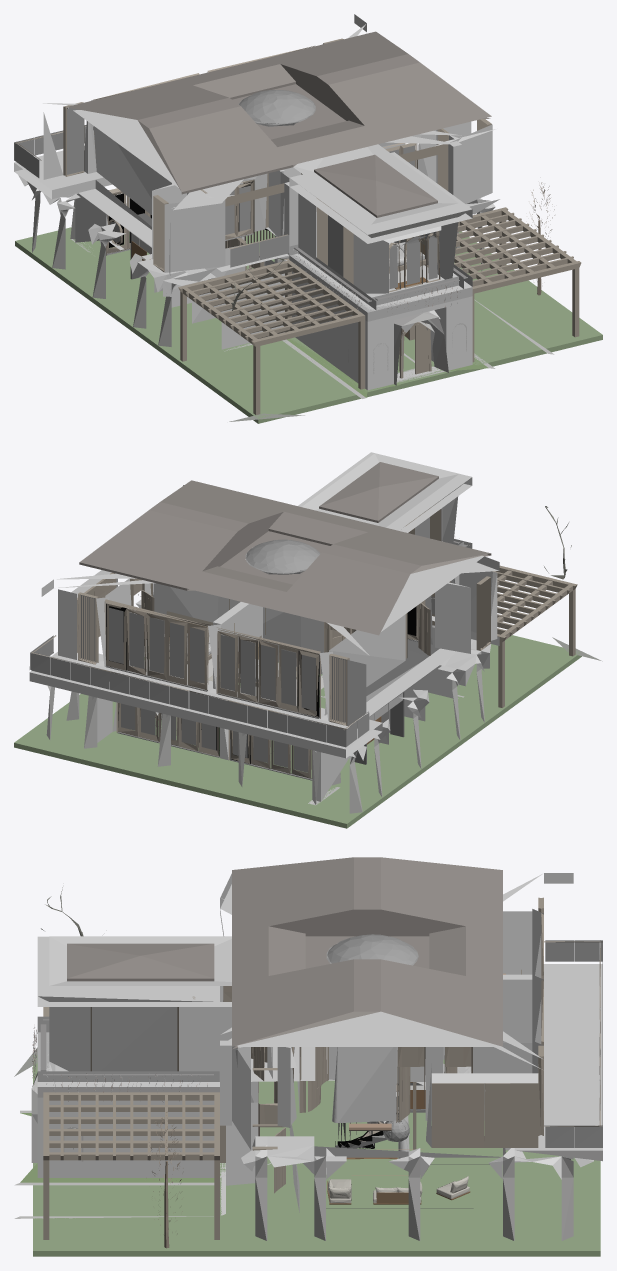
The model's file is nha-4-tuscan.glb.
3 views of the same model, one above another, from view 1: azimuth 30°, elevation 25°; view 2: azimuth 150°, elevation 25°; view 3: azimuth 270°, elevation 25° (orthographic). The views are drawn at different scales.
Visible parts, largest first — view 1: solid, glass; view 2: solid, glass; view 3: solid, glass.
Part boxes in pixels (x1,y1,x2,y2): solid: [14, 14, 602, 423]; glass: [14, 90, 437, 289]; solid: [14, 452, 602, 828]; glass: [29, 517, 434, 772]; solid: [14, 857, 602, 1256]; glass: [73, 934, 602, 1148].
Bounding box in the file's own units: 9.68 × 4.6 × 11.21.
